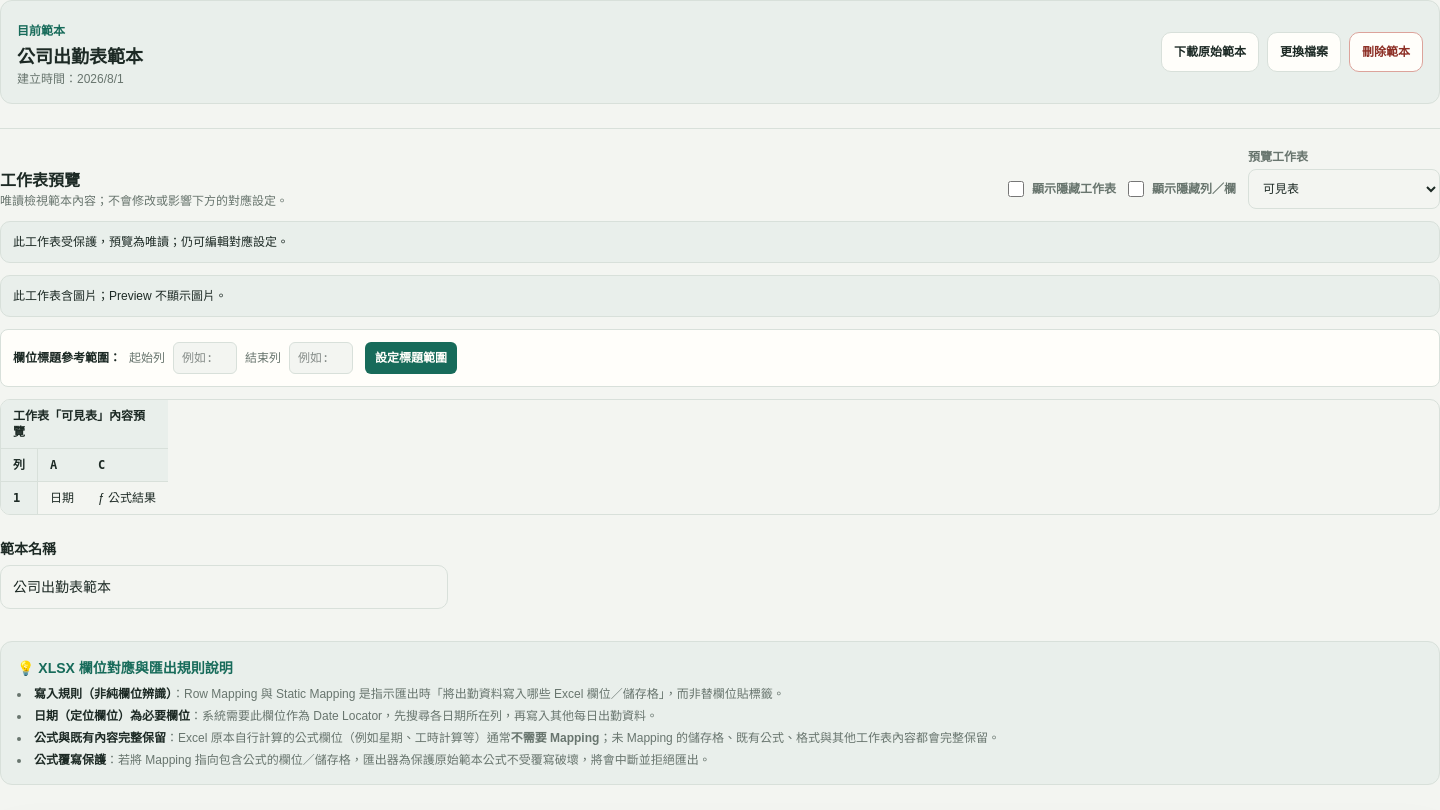
Test: Component: ExportTemplateSection › filters hidden worksheets, rows, and columns until the native preview toggles are enabled
Click the checkbox with id "show-hidden-worksheets": (1016, 189) 1008,181 -> 1024,197
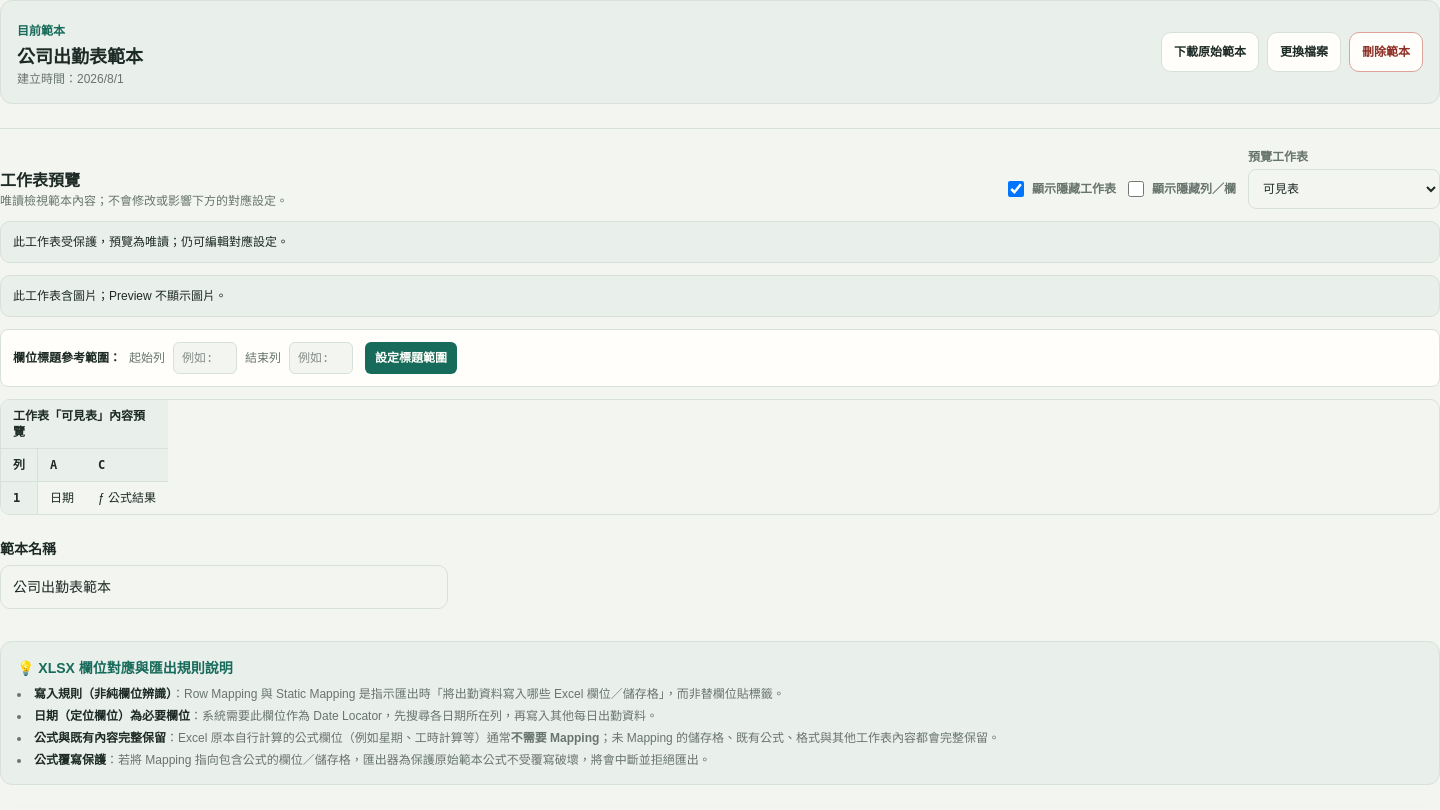
Select "隱藏表" in the dropdown with test id "preview-worksheet-select": (1344, 189) 1248,169 -> 1439,209
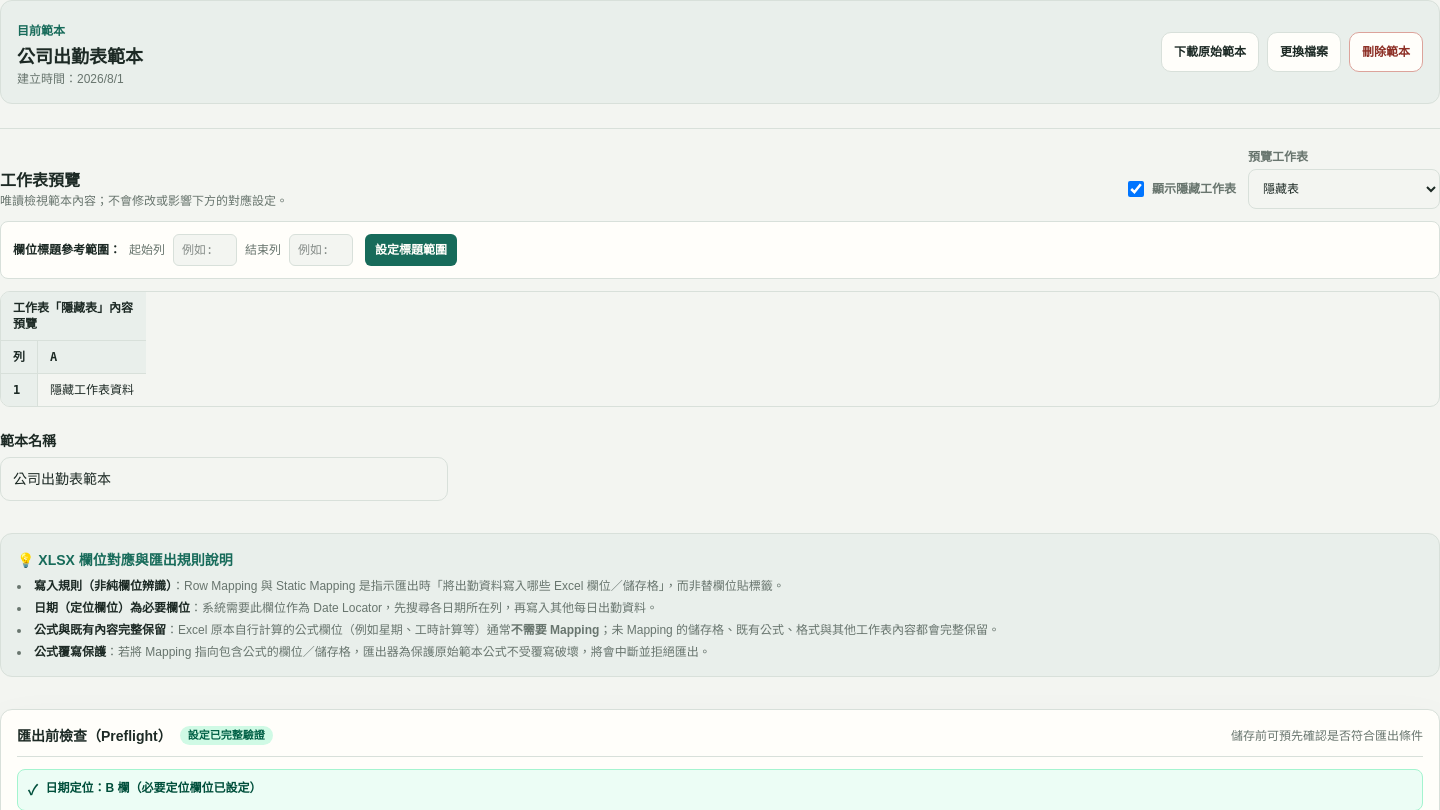
Expected: the text "工作表「隱藏表」內容預覽" is shown, 1,292 -> 146,341
Select "可見表" in the dropdown with test id "preview-worksheet-select": (1344, 189) 1248,169 -> 1439,209
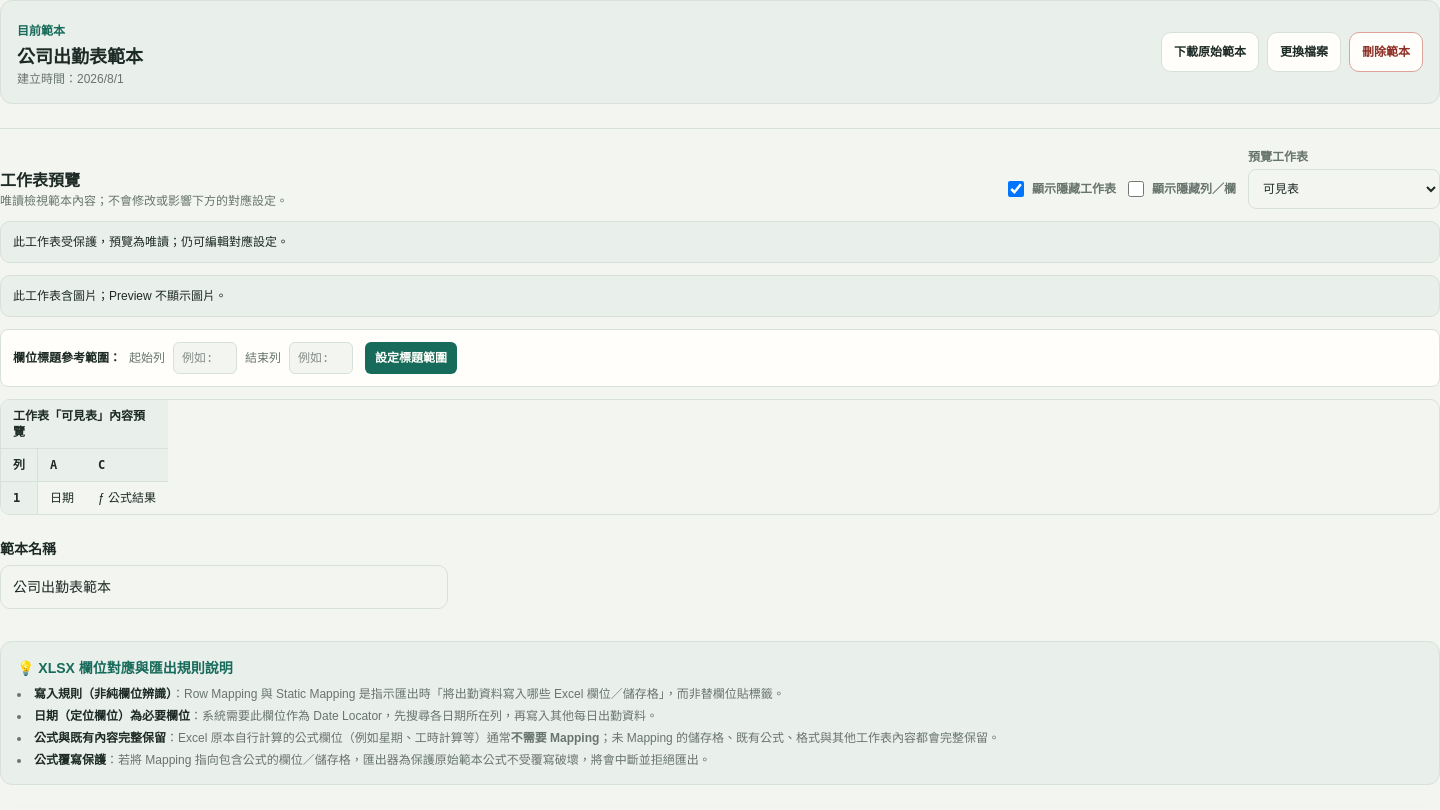
Click the checkbox with id "show-hidden-preview-rows-columns": (1136, 189) 1128,181 -> 1144,197
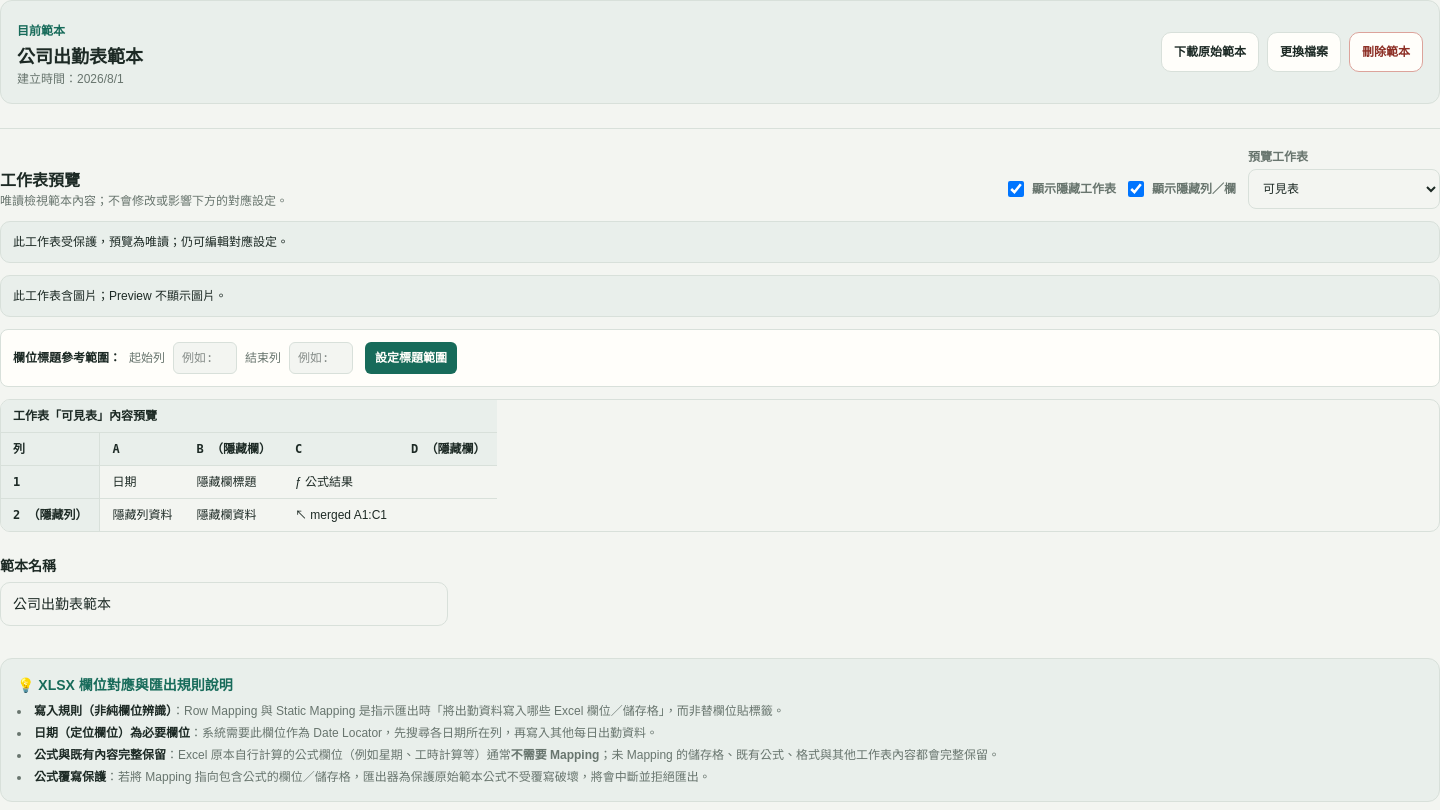
Expected: the text "ƒ 公式結果" is shown, 295,475 -> 353,489
Expected: the text "↖ merged A1:C1" is shown, 295,507 -> 387,523
